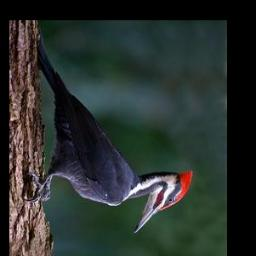Woodpecker: (22, 23, 193, 234)
